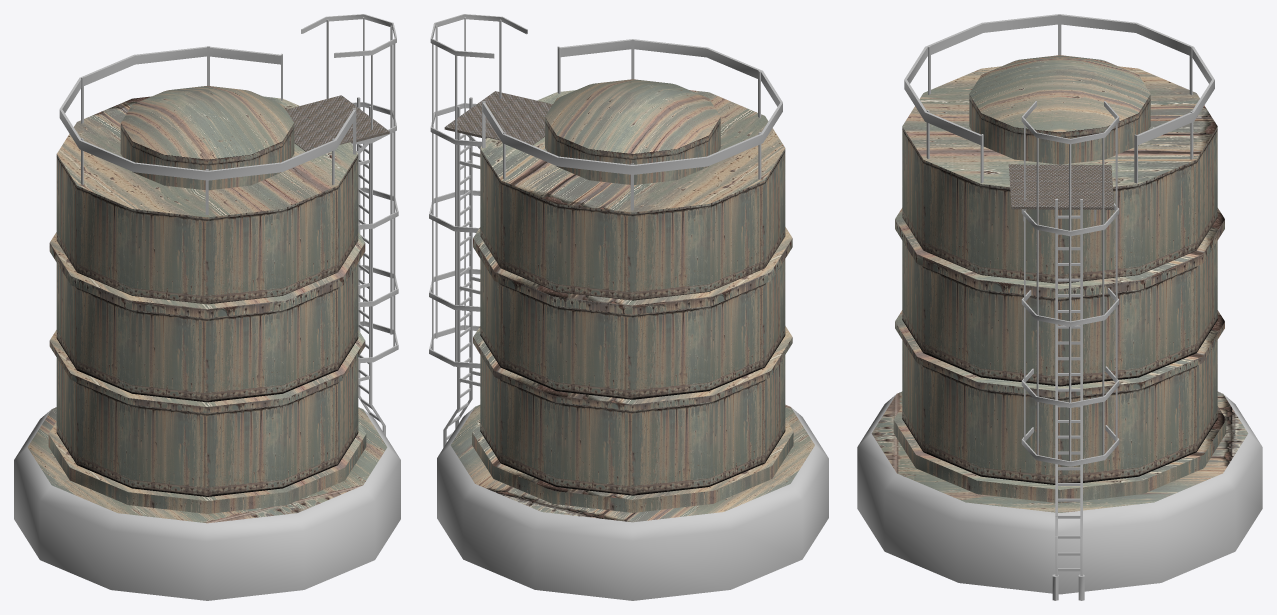
The model's file is oiltank1.fbx.
The picture shows the model from 3 angles, left to right: view 1: azimuth 30°, elevation 25°; view 2: azimuth 150°, elevation 25°; view 3: azimuth 270°, elevation 25°; orthographic projection. The views are drawn at different scales.
Parts seen in each view (by area): view 1: Mesh Object; view 2: Mesh Object; view 3: Mesh Object.
Part boxes in pixels (x1,y1,x2,y2): Mesh Object: (14, 14, 400, 600); Mesh Object: (429, 14, 828, 600); Mesh Object: (857, 14, 1262, 600).
Bounding box in the file's own units: 7.72 × 9.17 × 7.19.
